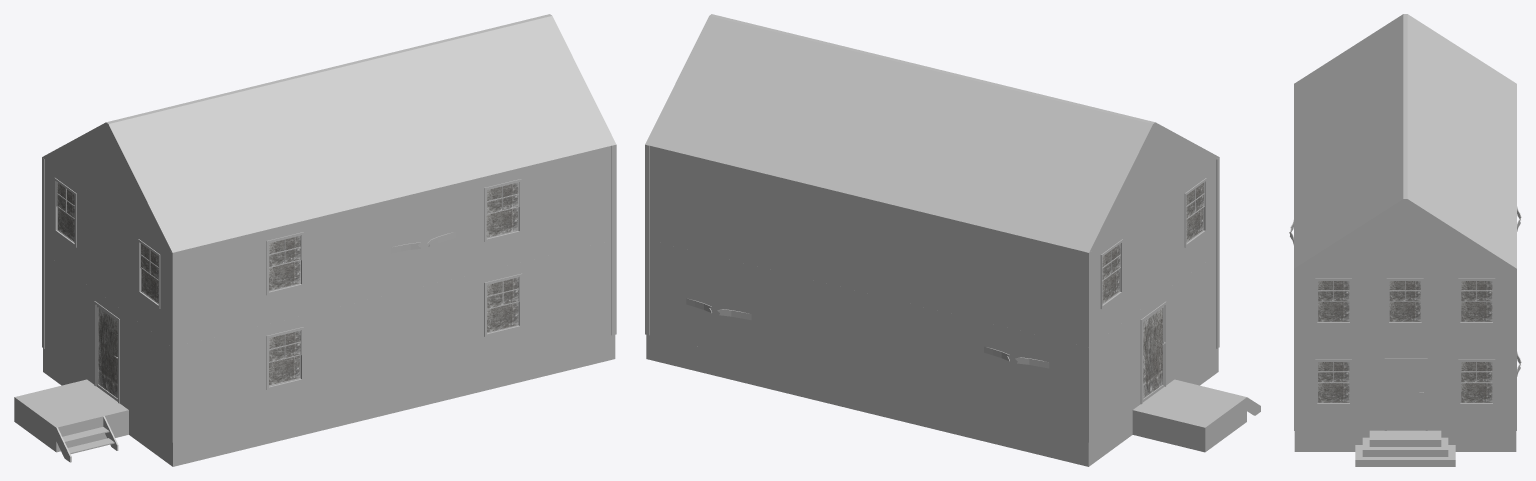
The model's file is Suburbs_house7.fbx.
3 renders of one model, left to right at view 1: azimuth 30°, elevation 25°; view 2: azimuth 150°, elevation 25°; view 3: azimuth 270°, elevation 25°, orthographic. The views are drawn at different scales.
Visible parts, largest first — view 1: Cube.1592, Cube.1589, Plane.833, Plane.009, Plane.026, Plane.025, Plane.853, Plane.027, Plane.846, Plane.028, Plane.849, Plane.850; view 2: Cube.1589, Cube.1592, Plane.833, Plane.009; view 3: Cube.1592, Cube.1589, Plane.833, Cube.035, Plane.012, Plane.796, Plane.795, Plane.016, Plane.015, Plane.013, Plane.799, Plane.792 (+2 smaller).
Part boxes in pixels (bbox=[...]): Cube.1592: bbox=[42, 14, 616, 252]; Cube.1589: bbox=[14, 239, 616, 466]; Plane.833: bbox=[42, 144, 616, 347]; Plane.009: bbox=[98, 308, 117, 397]; Plane.026: bbox=[487, 182, 518, 213]; Plane.025: bbox=[486, 207, 517, 237]; Plane.853: bbox=[269, 330, 300, 361]; Plane.027: bbox=[269, 235, 300, 266]; Plane.846: bbox=[487, 277, 518, 307]; Plane.028: bbox=[269, 260, 300, 289]; Plane.849: bbox=[487, 302, 518, 331]; Plane.850: bbox=[269, 357, 299, 384]; Cube.1589: bbox=[645, 239, 1260, 466]; Cube.1592: bbox=[645, 14, 1219, 252]; Plane.833: bbox=[645, 144, 1219, 347]; Plane.009: bbox=[1143, 308, 1162, 398]; Cube.1592: bbox=[1294, 14, 1516, 268]; Cube.1589: bbox=[1294, 206, 1521, 466]; Plane.833: bbox=[1289, 220, 1516, 349]; Cube.035: bbox=[1387, 361, 1425, 430]; Plane.012: bbox=[1318, 281, 1349, 301]; Plane.796: bbox=[1461, 362, 1492, 382]; Plane.795: bbox=[1318, 362, 1349, 382]; Plane.016: bbox=[1461, 281, 1492, 301]; Plane.015: bbox=[1389, 281, 1420, 301]; Plane.013: bbox=[1318, 302, 1349, 321]; Plane.799: bbox=[1461, 383, 1492, 402]; Plane.792: bbox=[1318, 383, 1349, 402].
Bounding box in the file's own units: 1520 × 781 × 649.
